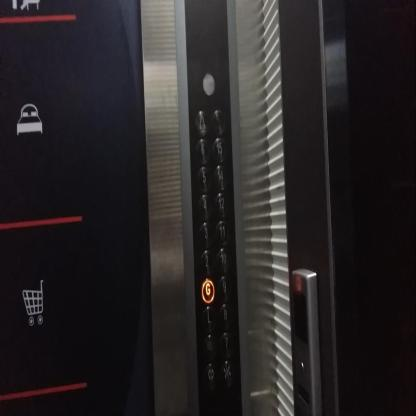10: (216, 248, 231, 274)
11: (216, 220, 230, 245)
12: (214, 192, 228, 218)
14: (213, 165, 227, 191)
15: (212, 137, 226, 164)
2: (200, 249, 214, 276)
3: (198, 221, 213, 248)
4: (197, 194, 211, 219)
5: (196, 166, 212, 192)
6: (195, 138, 209, 164)
7: (218, 331, 234, 357)
8: (218, 304, 231, 330)
9: (216, 276, 232, 302)
G: (200, 277, 214, 304)
L: (202, 305, 216, 333)
alarm: (195, 109, 209, 134)
blur: (203, 334, 216, 358)
close: (221, 360, 234, 387)
empty: (211, 109, 226, 135), (202, 73, 216, 95)
open: (203, 362, 218, 389)
